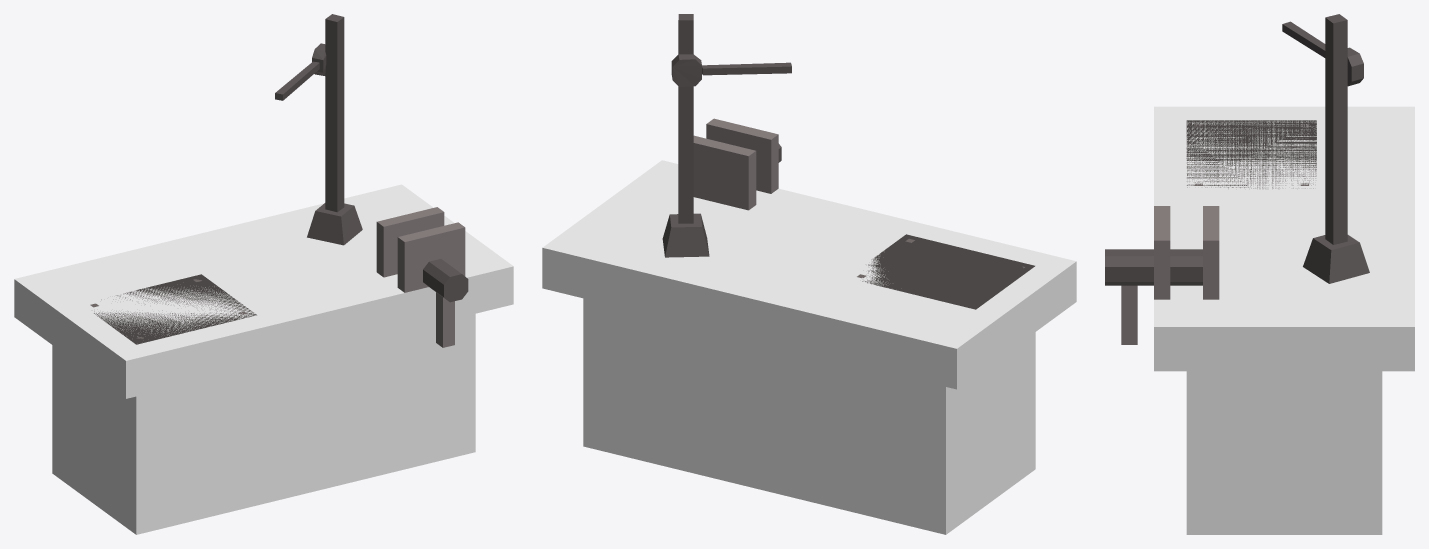
3 renders of one model, left to right at view 1: azimuth 30°, elevation 25°; view 2: azimuth 150°, elevation 25°; view 3: azimuth 270°, elevation 25°, orthographic. The views are drawn at different scales.
Size of the model in its own units: 256 by 256 by 152.
1 material, 1 textured.
